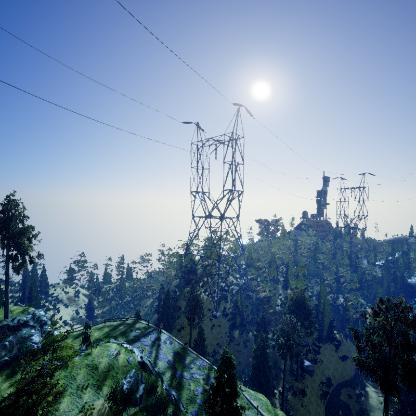tower: (178, 99, 256, 319), (329, 170, 377, 266)
